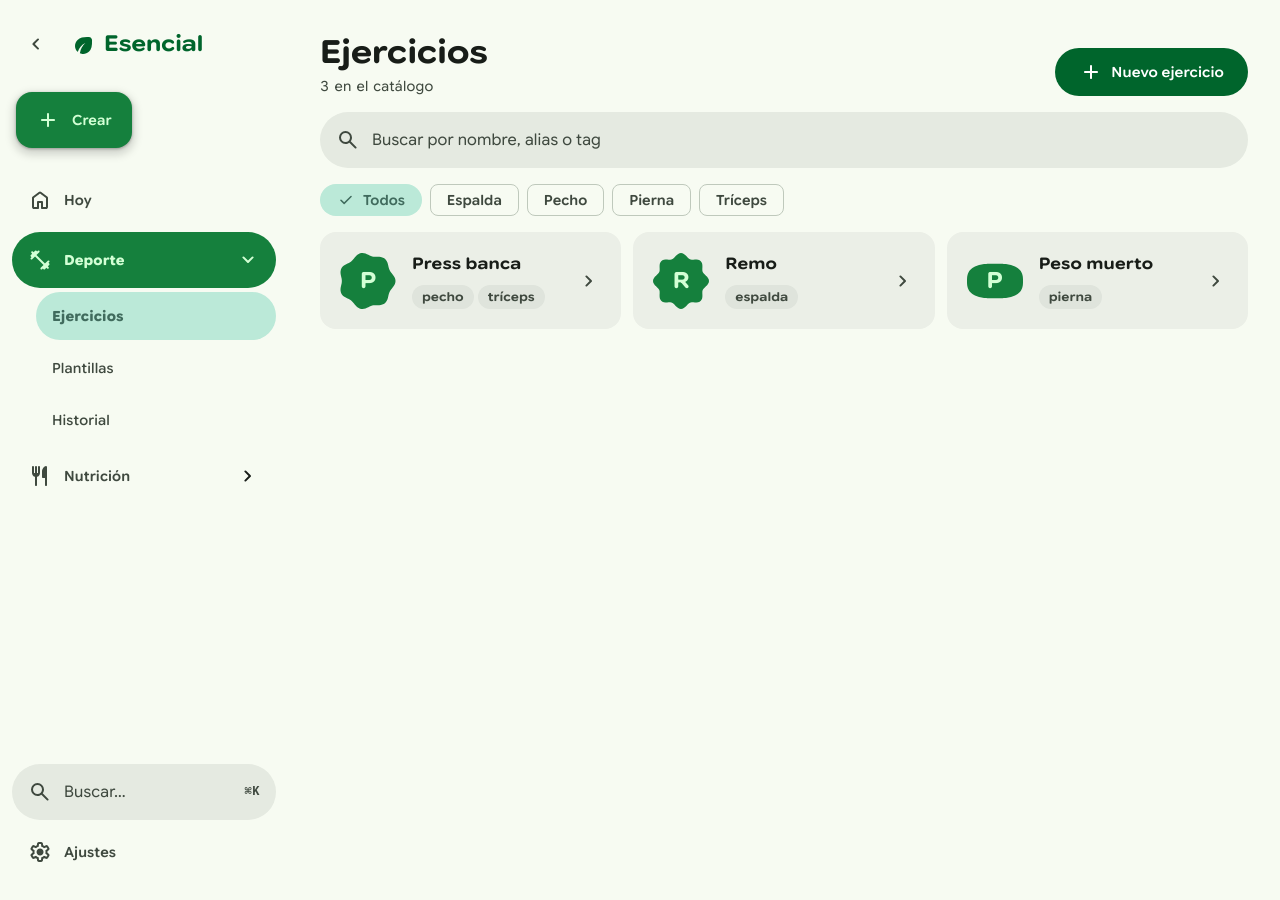
it: catalog › filtro por grupo: el chip elegido se marca y deja solo sus ejercicios
Expected: the text "Press banca" is shown, [412,254,521,274]
Click the button "Espalda".
click(474, 200)  # box [430,184,519,216]
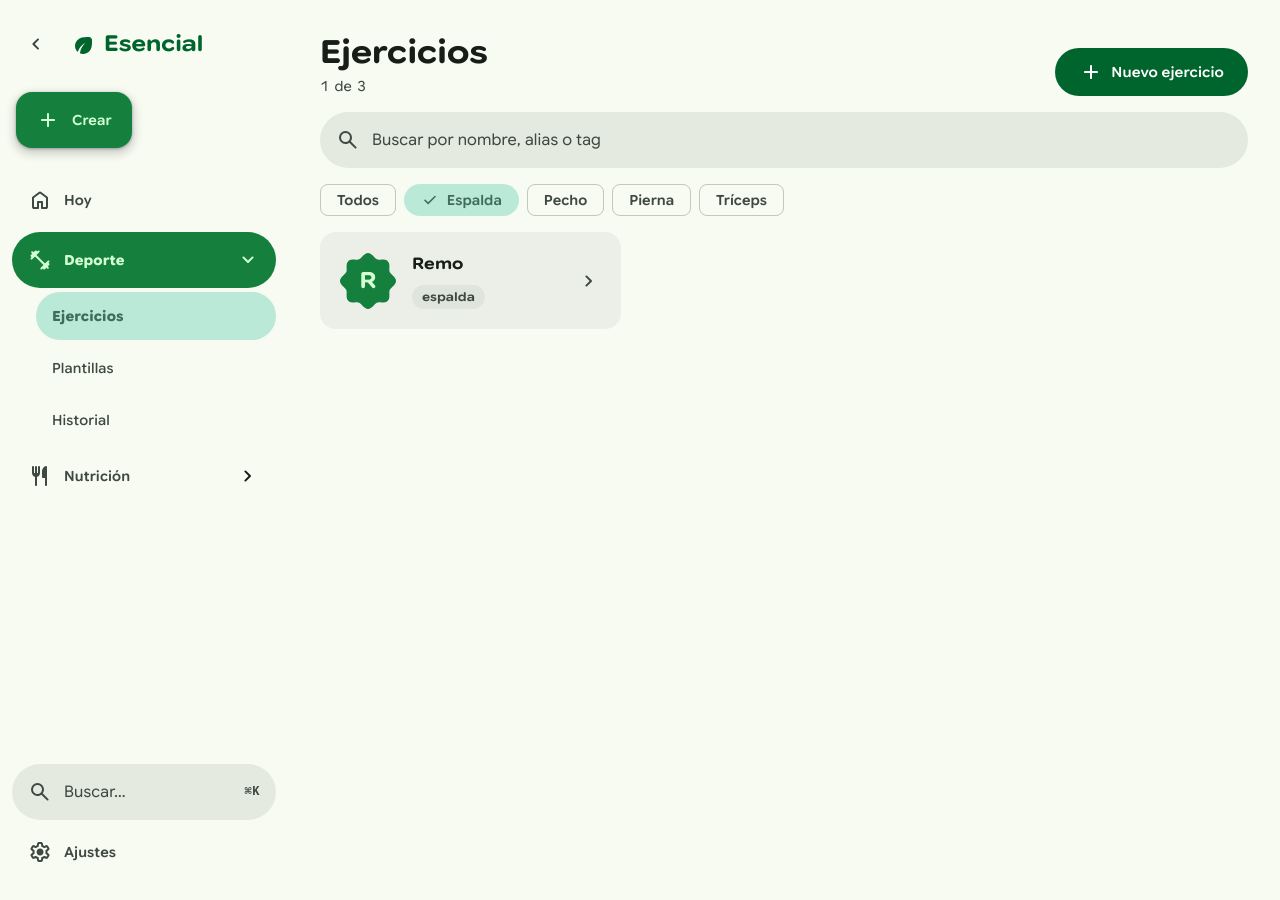
Expected: the text "Remo" is shown, [412,254,464,274]
Now the link "Press banca" is gone
Now the link "Peso muerto" is gone
Click the button "Todos".
click(358, 200)  # box [320,184,396,216]
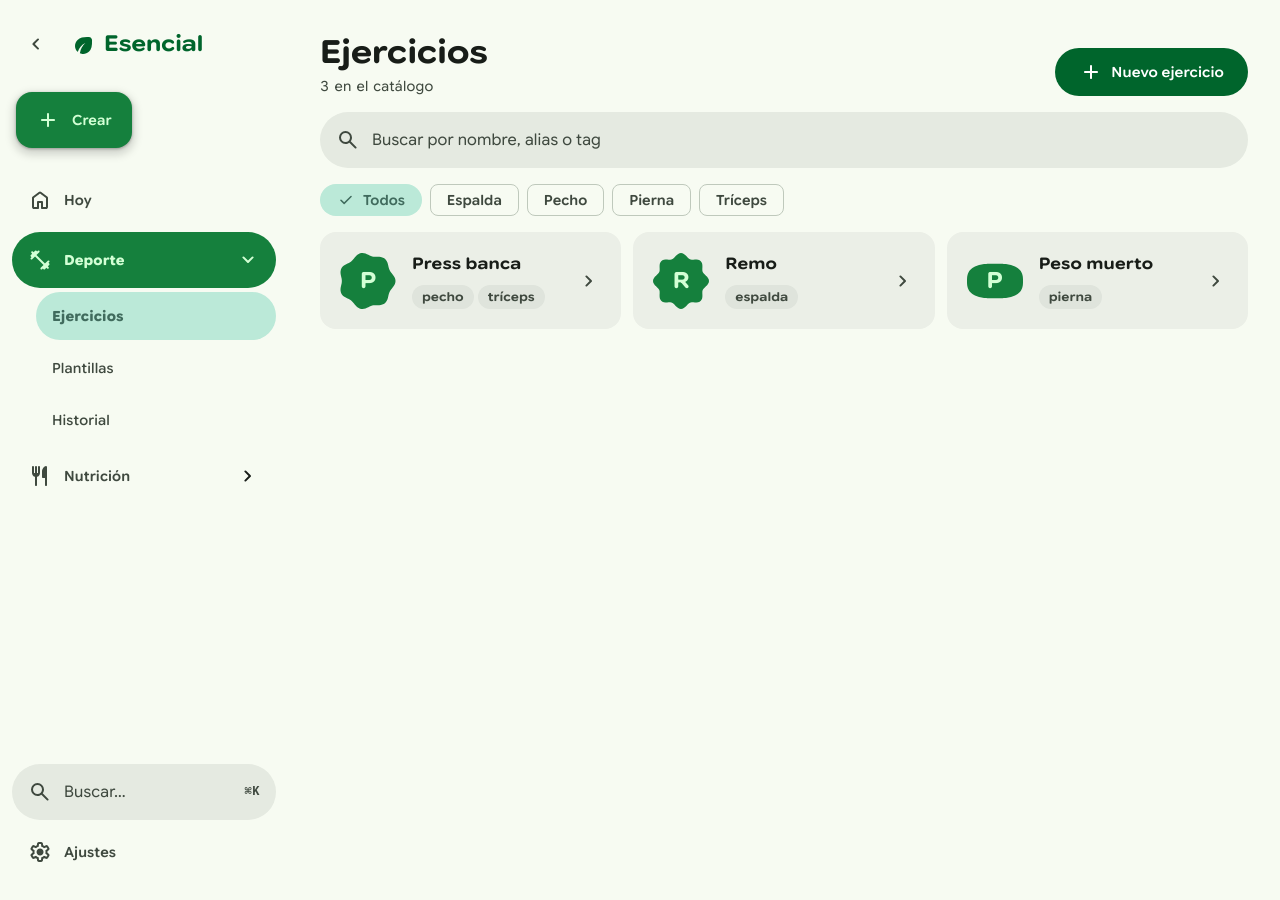
Now the text "Press banca" is shown, box [412,254,521,274]
